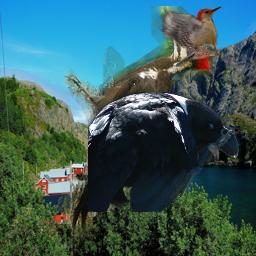Crow: (88, 92, 241, 212)
Woodpecker: (58, 6, 213, 236), (152, 5, 222, 67)
